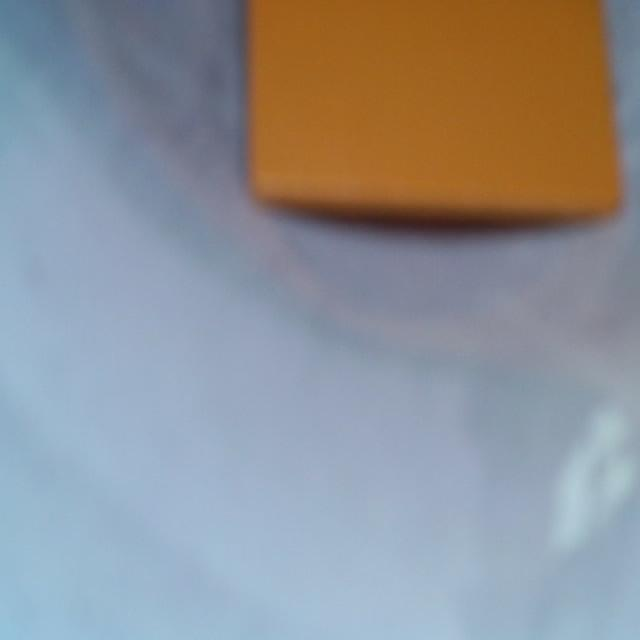square: (247, 0, 621, 215)
